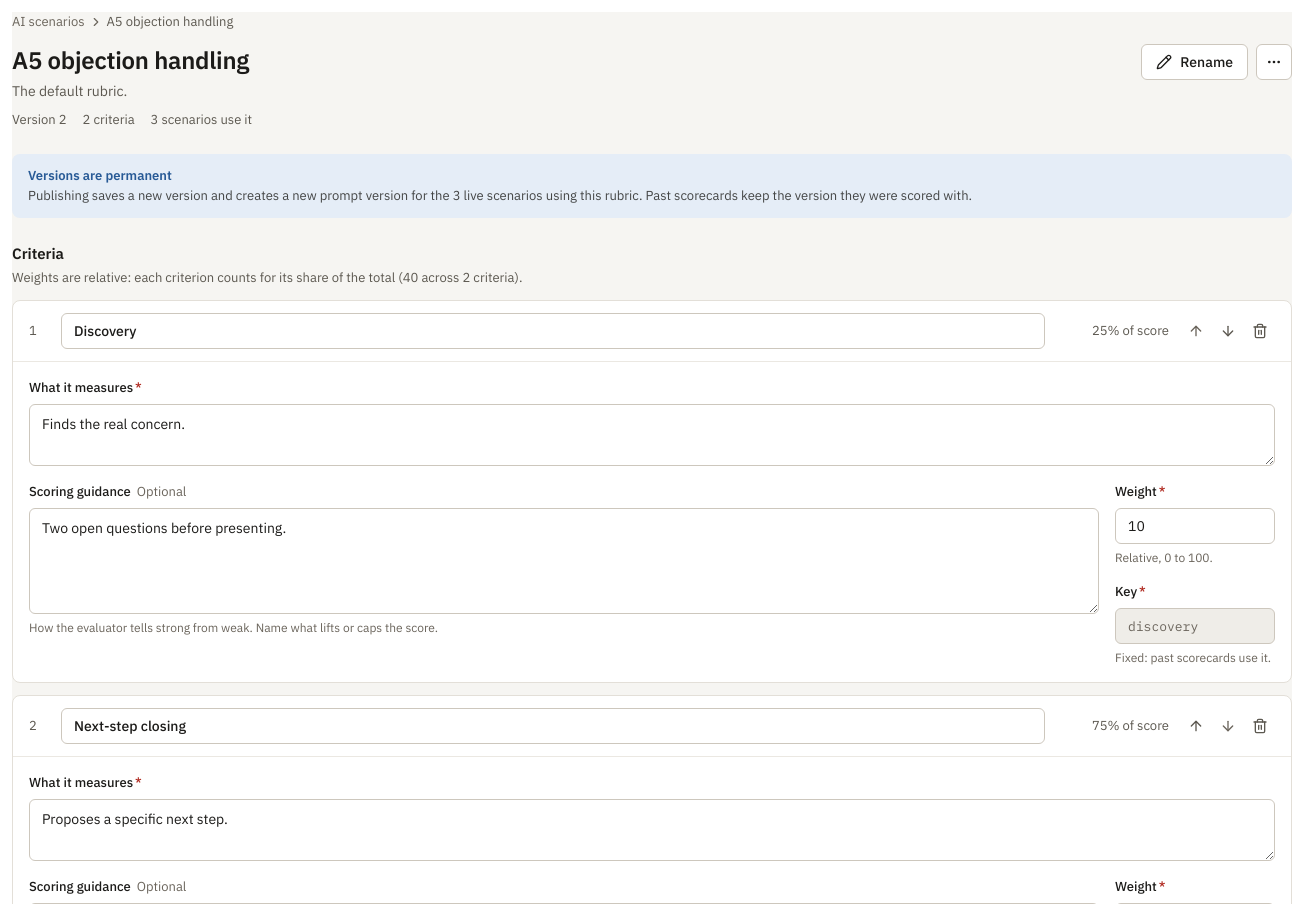
Scenario: rubric editor › does not publish an invalid rubric and marks what to fix
The image size is (1304, 904).
Expected: the heading "A5 objection handling" is shown, [12,44,252,76]
Clear the field named "Criterion 2 name" next to "75% of score" at (553, 726), box [61,708,1045,744]
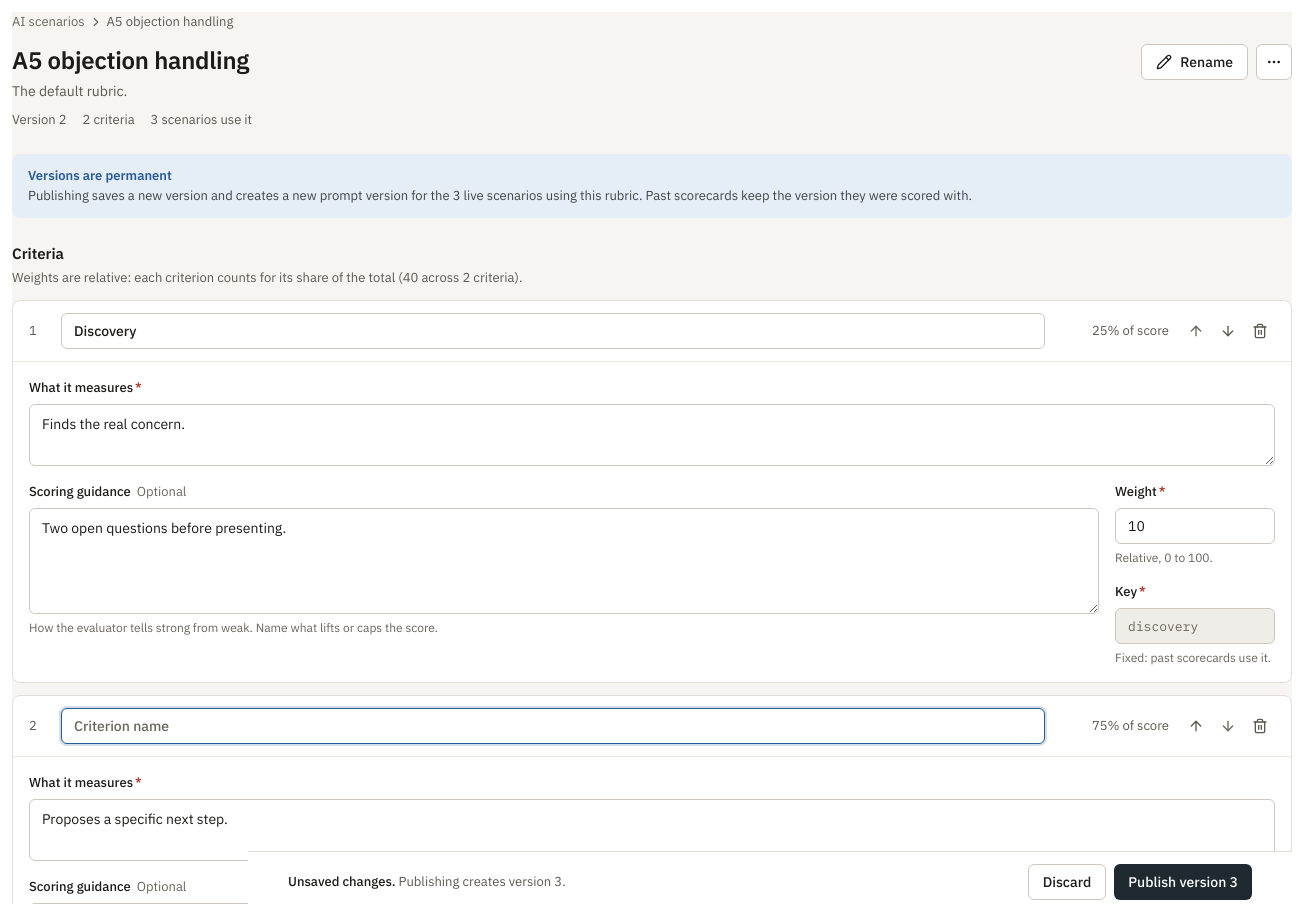
Click the button "Publish version 3".
click(1183, 882)  # box [1114,864,1252,900]
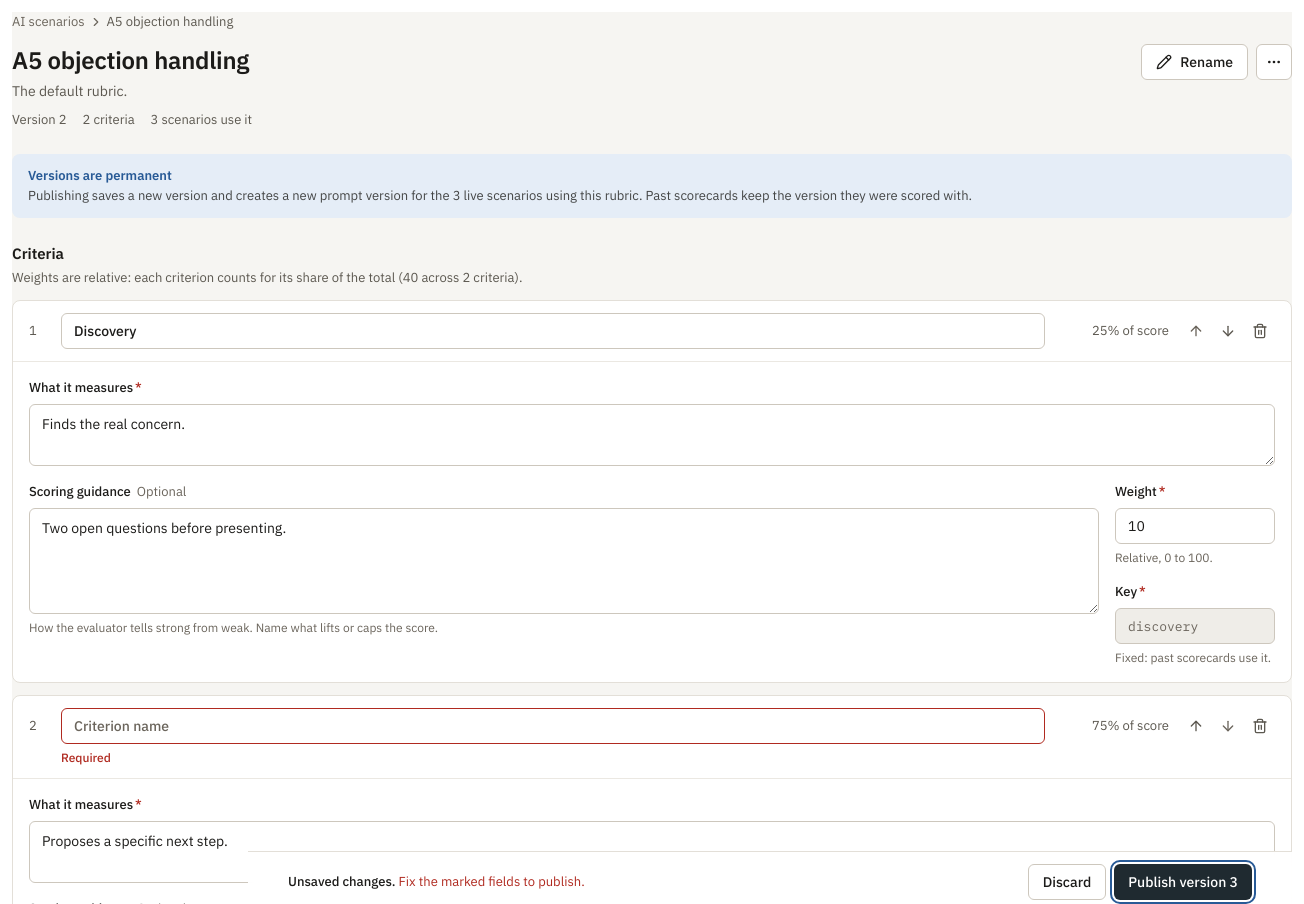
Result: the text "Required" is shown at [61,750,111,765]
Result: the text "Fix the marked fields to publish." is shown at [399,873,585,890]
